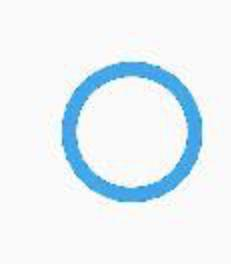RadioButton: (1, 1, 230, 263)
